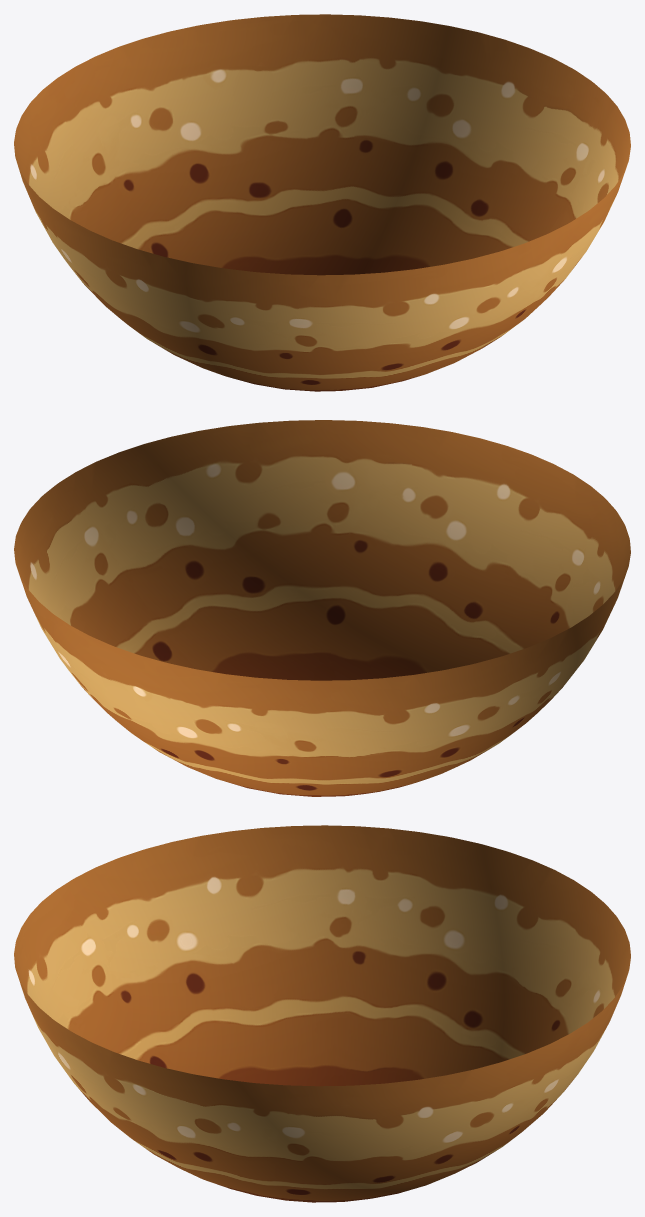
The model's file is lowerSphere_11_0.FBX.
The picture shows the model from 3 angles, top to bottom: view 1: azimuth 30°, elevation 25°; view 2: azimuth 150°, elevation 25°; view 3: azimuth 270°, elevation 25°; orthographic projection.
Parts seen in each view (by area): view 1: 1; view 2: 1; view 3: 1.
Part boxes in pixels (left/top/right/bottom): 1: left=14, top=14, right=630, bottom=391; 1: left=14, top=420, right=630, bottom=796; 1: left=14, top=825, right=630, bottom=1202.
Bounding box in the file's own units: 5.37 × 2.09 × 5.37.
1 material, 1 textured.
